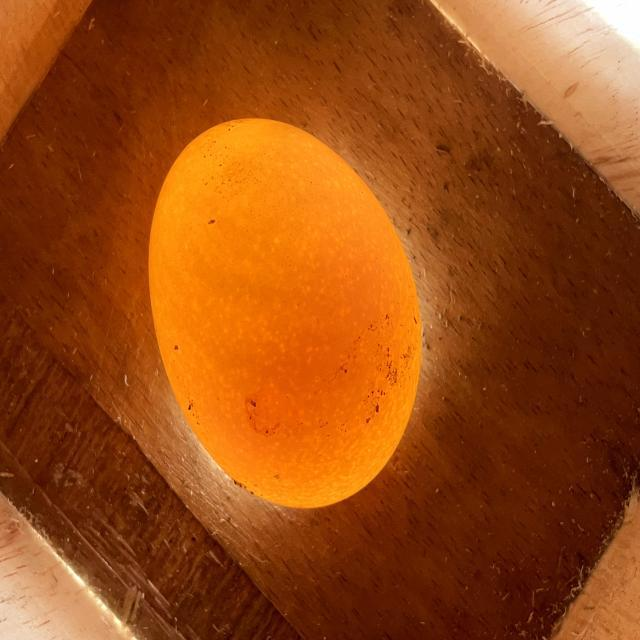Eggs: (149, 117, 421, 509)
